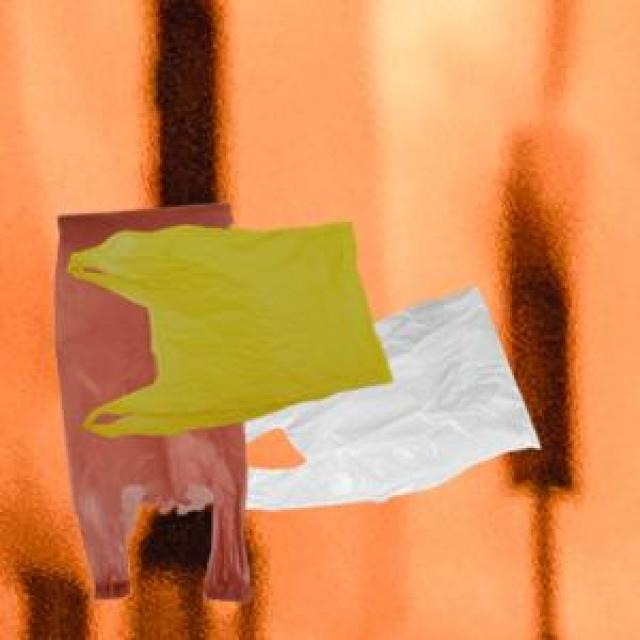plastic: (36, 186, 576, 605)
